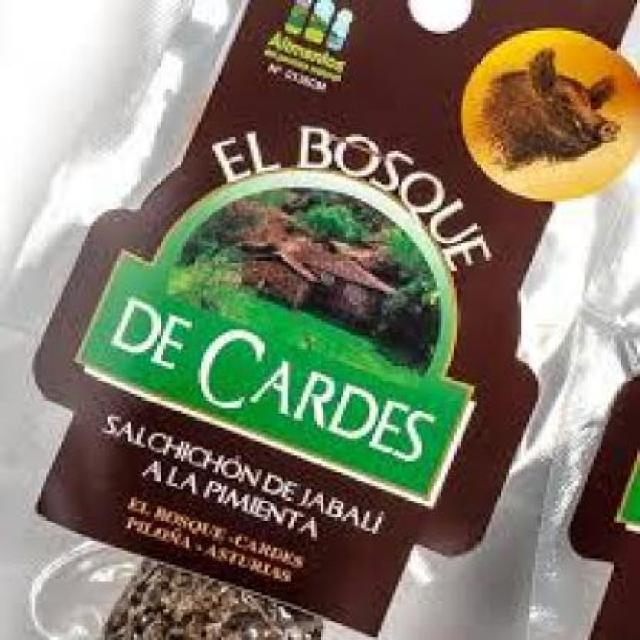wildboar: (479, 40, 630, 174)
